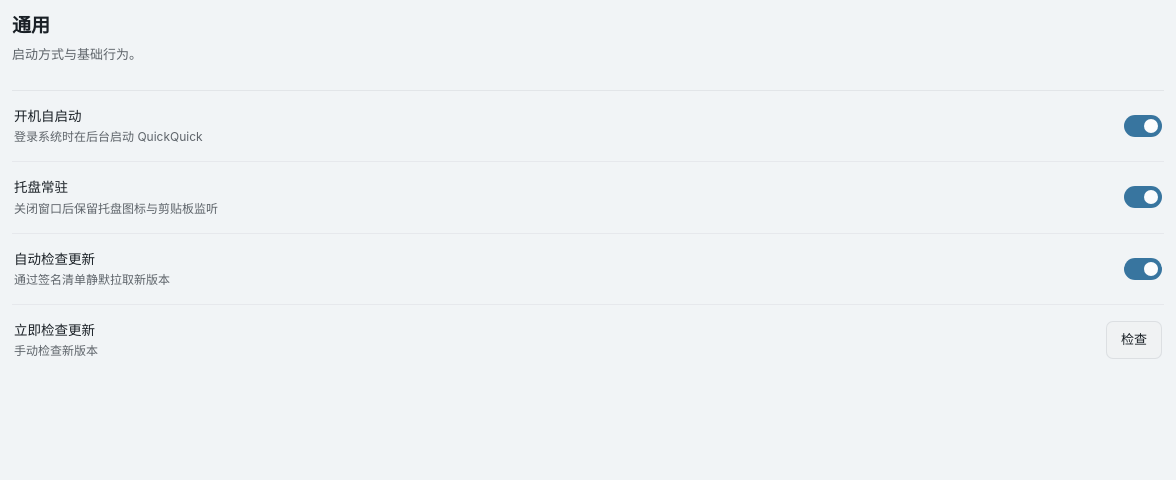
Test case: GeneralPanel 立即检查更新按钮 › available=true 时显示「发现新版本」文案
The image size is (1176, 480).
Step 1. Click the button "检查" → (1134, 340), box x1=1106 y1=321 x2=1162 y2=359
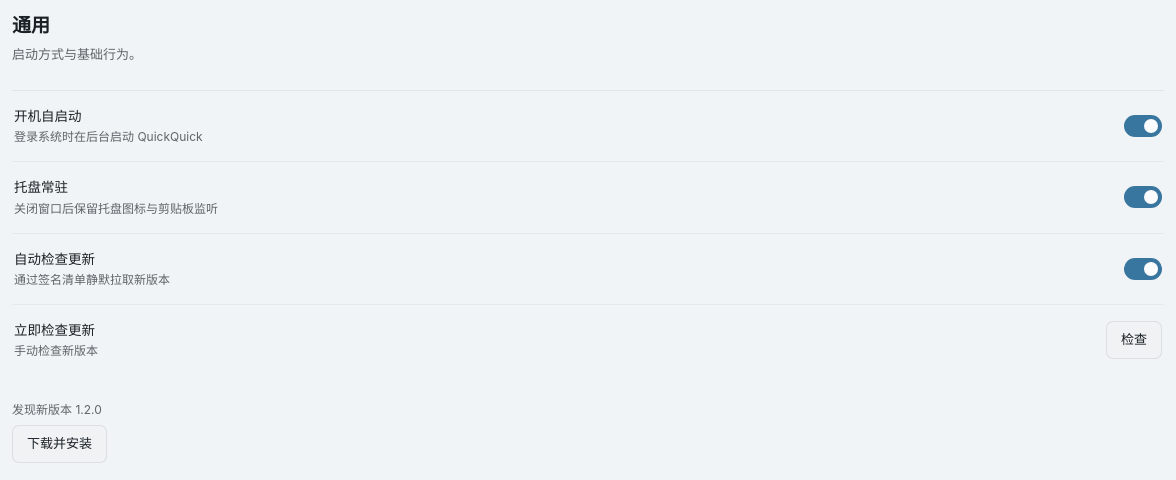
Check: the text "发现新版本 1.2.0" is shown, box x1=12 y1=402 x2=102 y2=417
